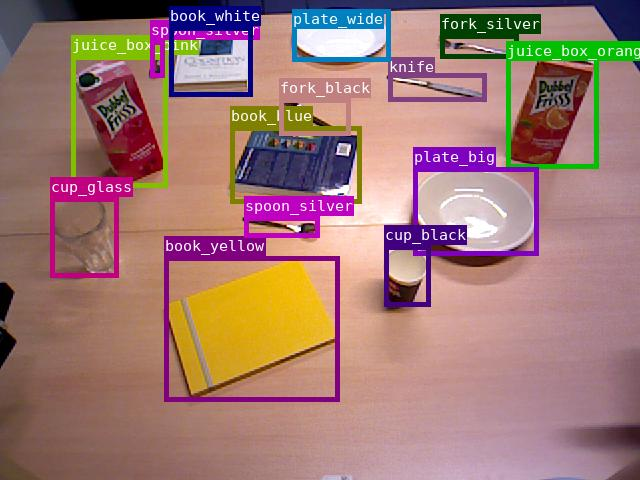book_blue: (230, 126, 361, 203)
book_white: (169, 26, 252, 96)
book_yellow: (164, 256, 339, 401)
cup_black: (384, 245, 430, 306)
cup_glass: (50, 197, 118, 277)
fork_black: (279, 98, 350, 135)
fork_silver: (440, 34, 518, 58)
juice_box_orange: (506, 41, 598, 168)
juice_box_pink: (71, 55, 167, 187)
knife: (388, 73, 486, 101)
plate_big: (413, 167, 538, 255)
plate_wide: (292, 9, 390, 61)
spoon_silver: (244, 216, 319, 237), (150, 40, 164, 77)
